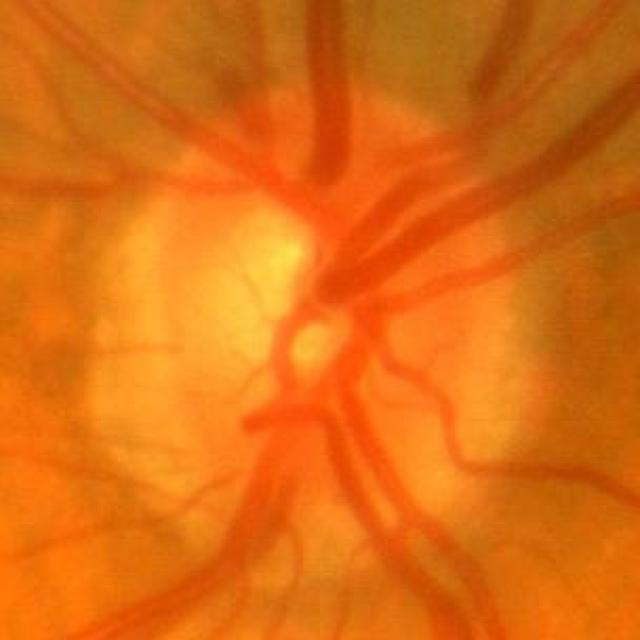OC: (199, 213, 358, 373)
OD: (85, 100, 541, 576)
